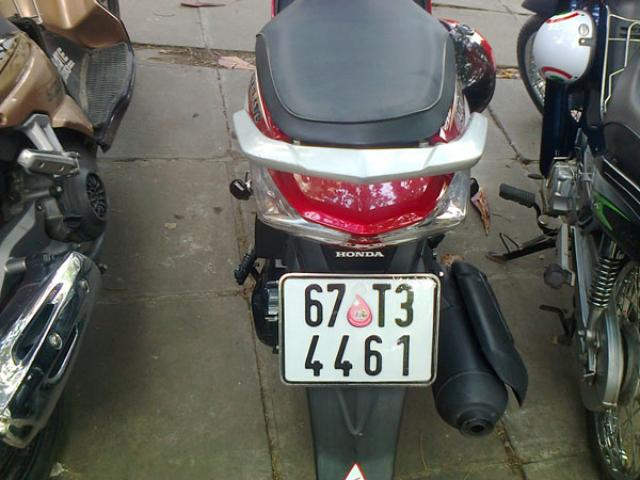plate: (278, 272, 440, 390)
